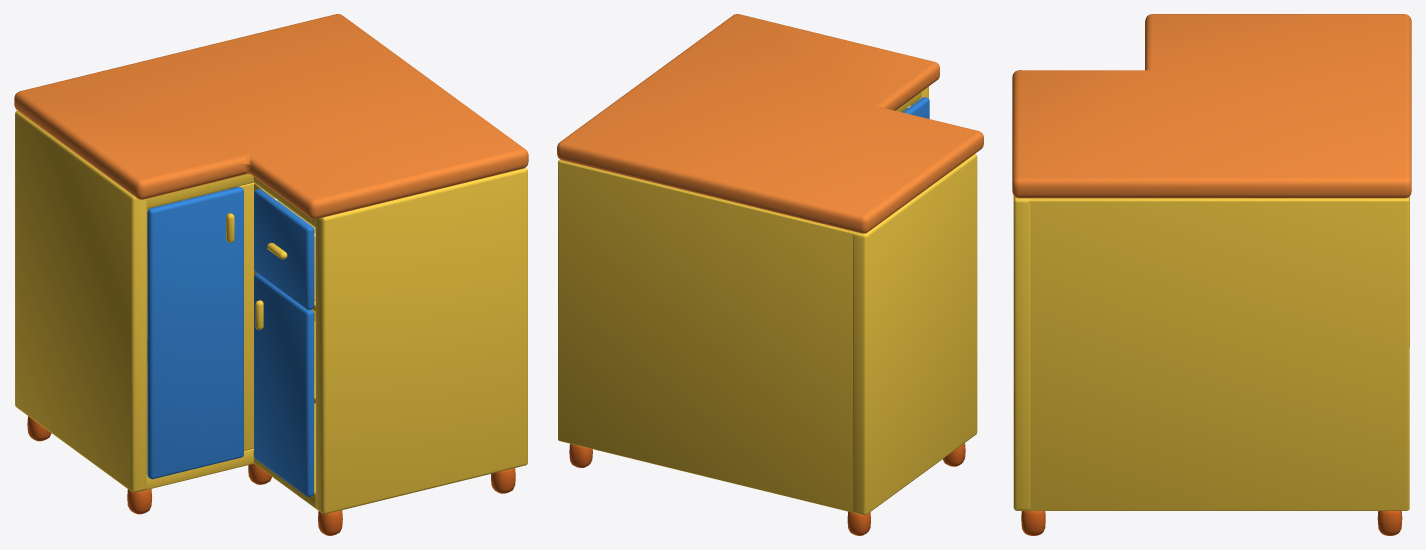
Rendered from armario_cozinha_canto_moderna.glb.
3 views of the same model, side by side, from view 1: azimuth 30°, elevation 25°; view 2: azimuth 150°, elevation 25°; view 3: azimuth 270°, elevation 25° (orthographic). The views are drawn at different scales.
Parts seen in each view (by area): view 1: armario_cozinha_canto_moderna, porta_1, porta_2, gaveta_1; view 2: armario_cozinha_canto_moderna; view 3: armario_cozinha_canto_moderna.
Part boxes in pixels (x1=…): armario_cozinha_canto_moderna: x1=14, y1=14, x2=528, y2=535; porta_1: x1=147, y1=186, x2=243, y2=479; porta_2: x1=254, y1=273, x2=314, y2=496; gaveta_1: x1=254, y1=189, x2=315, y2=309; armario_cozinha_canto_moderna: x1=557, y1=14, x2=983, y2=535; armario_cozinha_canto_moderna: x1=1012, y1=14, x2=1411, y2=535.
Size of the model in its own units: 0.898 by 0.9 by 0.899.
1 material, 1 textured.
